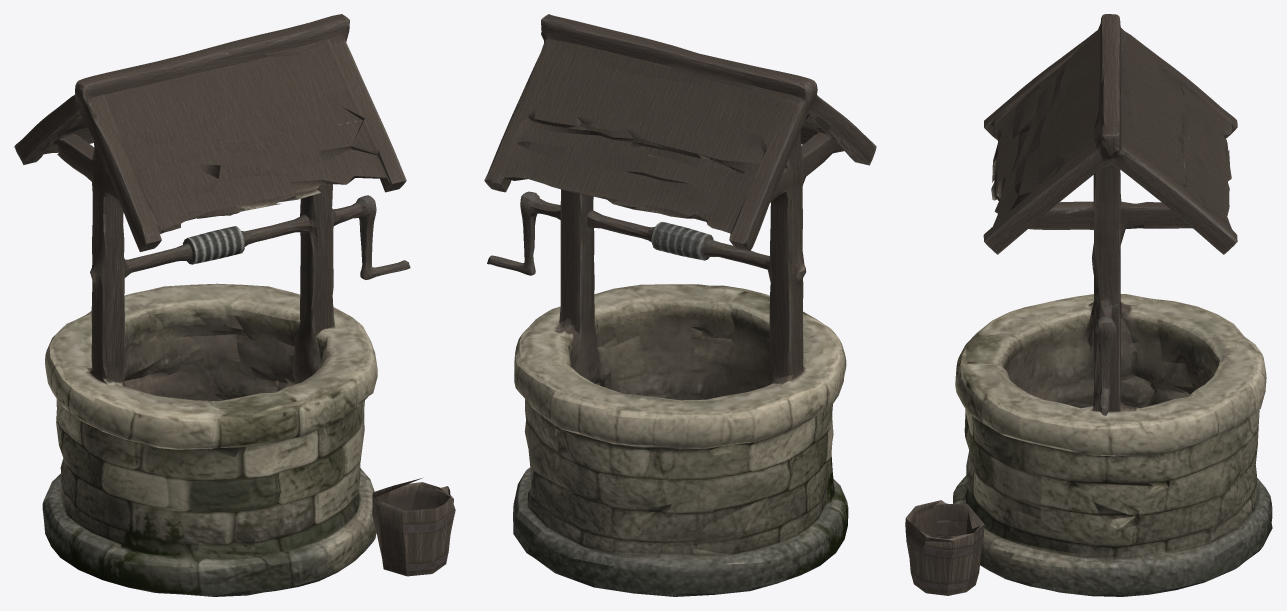
The model's file is ok-farm-well-meshy.glb.
The picture shows the model from 3 angles, left to right: view 1: azimuth 30°, elevation 25°; view 2: azimuth 150°, elevation 25°; view 3: azimuth 270°, elevation 25°; orthographic projection. The views are drawn at different scales.
Size of the model in its own units: 1.42 by 1.9 by 1.38.
Materials: 1 (1 with a texture image).
